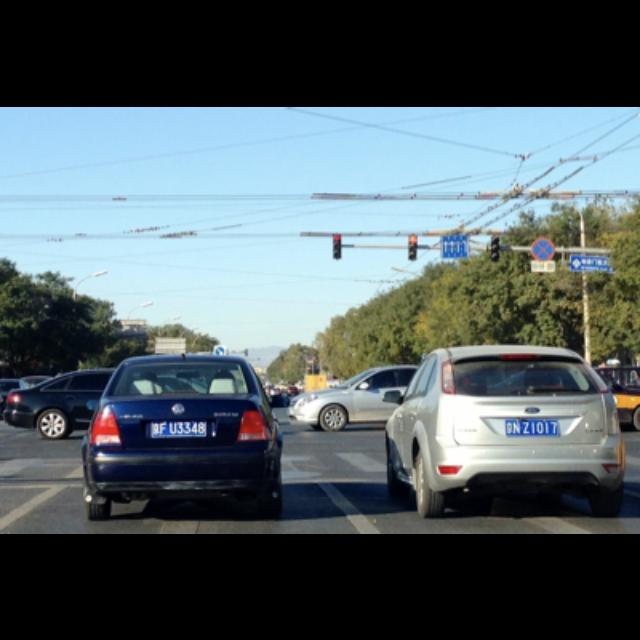carPlate: (505, 418, 559, 436), (150, 422, 206, 436)
